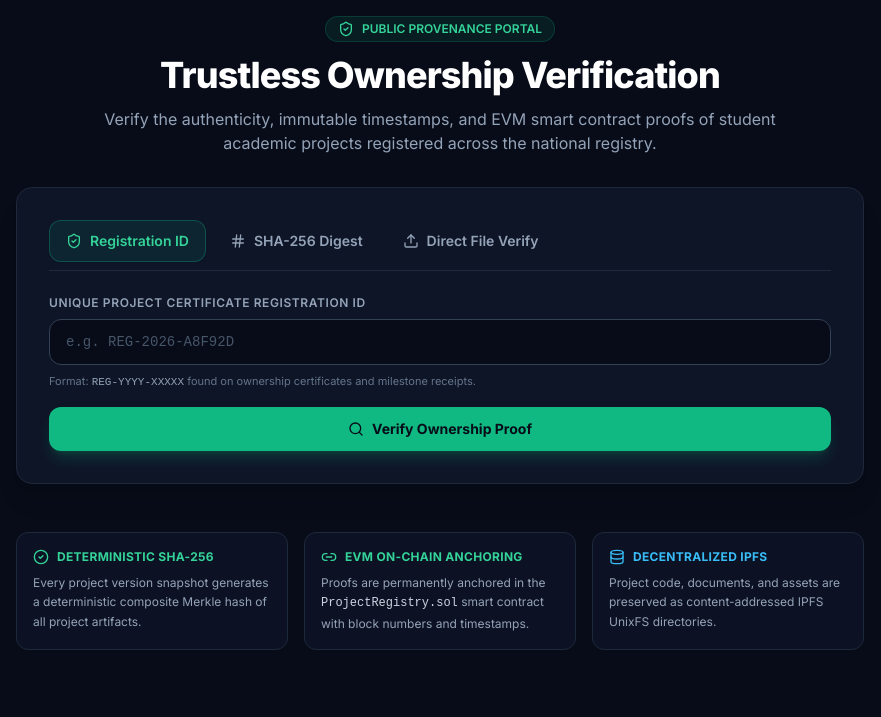
Test case: Ownership Verification Module Tests › VerificationPortalPage — Public Search Portal › validates empty registration ID input and blocks submission
The image size is (881, 717).
Click the button "Verify Ownership Proof". click: (440, 428)
box: [49,406,831,450]
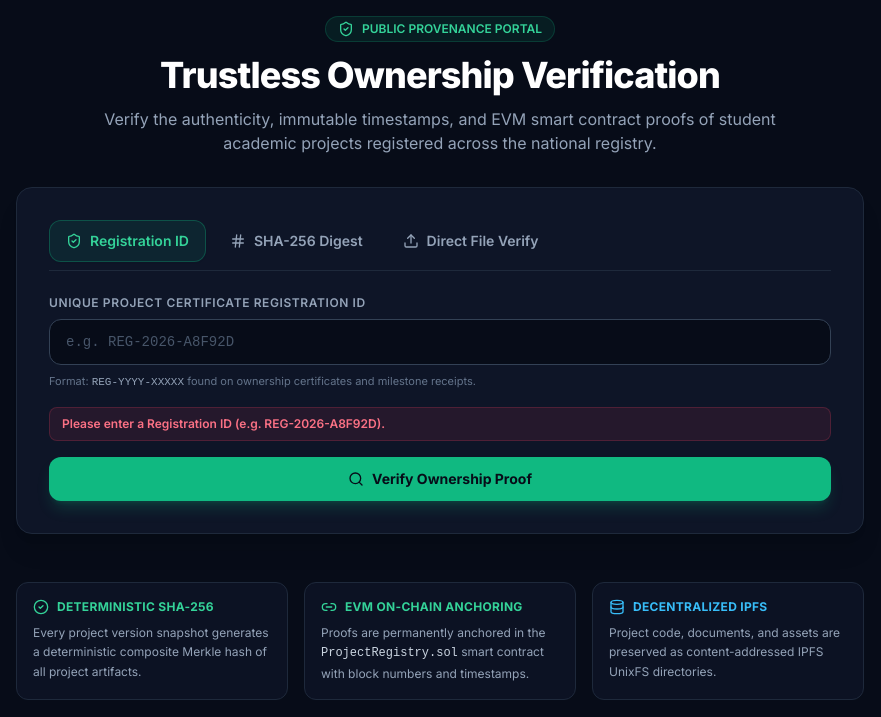
Expected: the text "Please enter a Registration ID (e.g. REG-2026-A8F92D)." is shown, [49,406,831,440]
